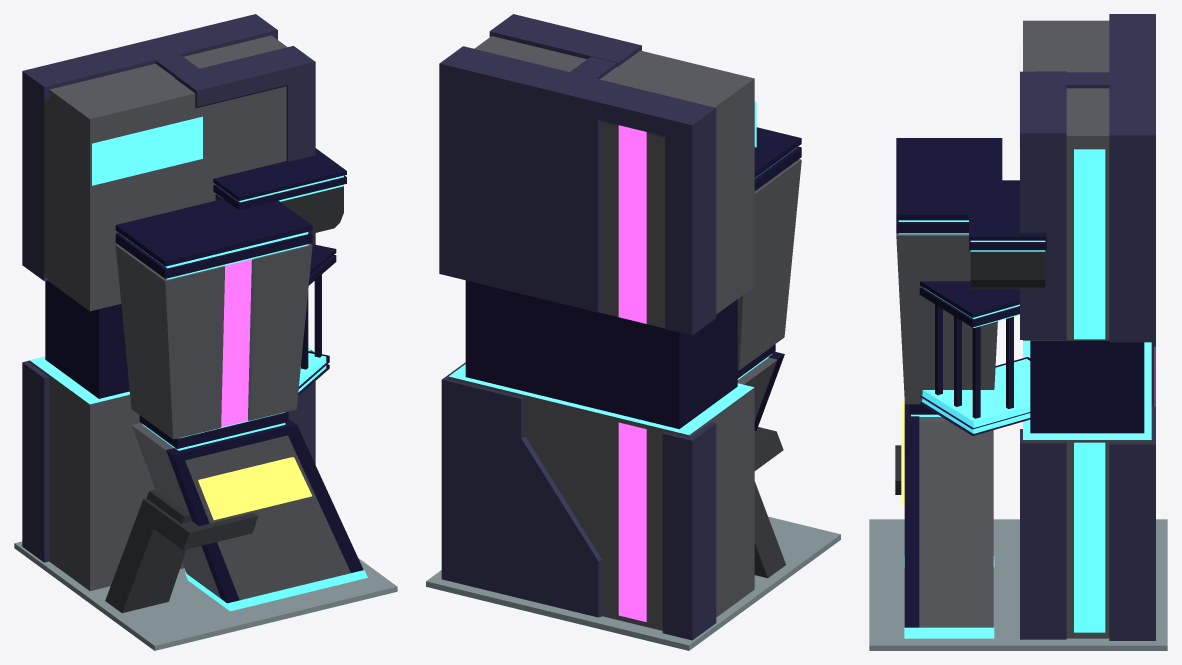
Rendered from CityHouse5.fbx.
3 views of the same model, side by side, from view 1: azimuth 30°, elevation 25°; view 2: azimuth 150°, elevation 25°; view 3: azimuth 270°, elevation 25° (orthographic). The views are drawn at different scales.
Parts seen in each view (by area): view 1: Cube.684, Road.028; view 2: Cube.684, Road.028; view 3: Cube.684, Road.028.
Boxes of the visible parts, x1,y1,x2,y2 form: Cube.684: [22, 14, 367, 612]; Road.028: [14, 541, 397, 650]; Cube.684: [439, 14, 801, 640]; Road.028: [426, 516, 840, 650]; Cube.684: [895, 14, 1155, 640]; Road.028: [869, 519, 1167, 650].
Size of the model in its own units: 400 by 757 by 400.
